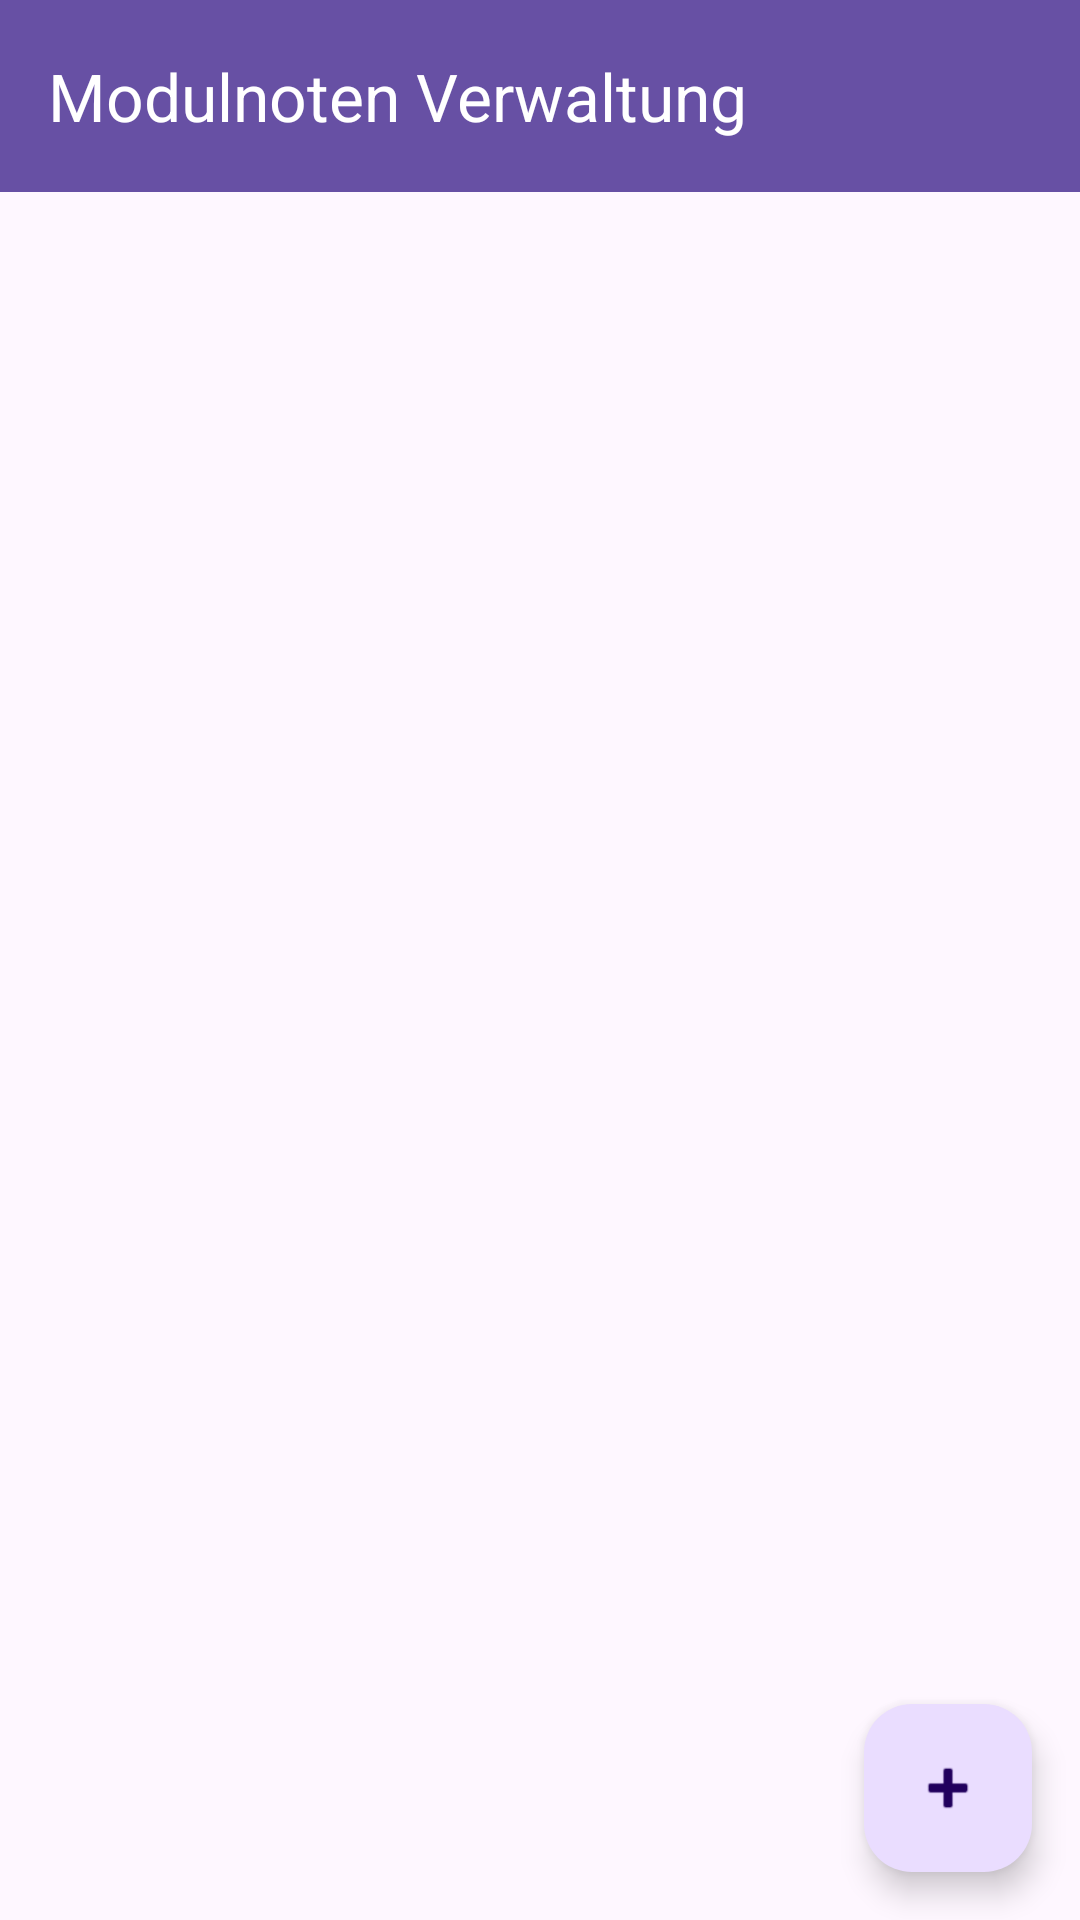

Where to tap for icons on this 1080*1920 app screen, as point (x, y):
Neues Modul hinzufügen: point (948, 1788)
